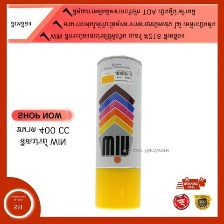aerosol_cans: (92, 52, 144, 212)
